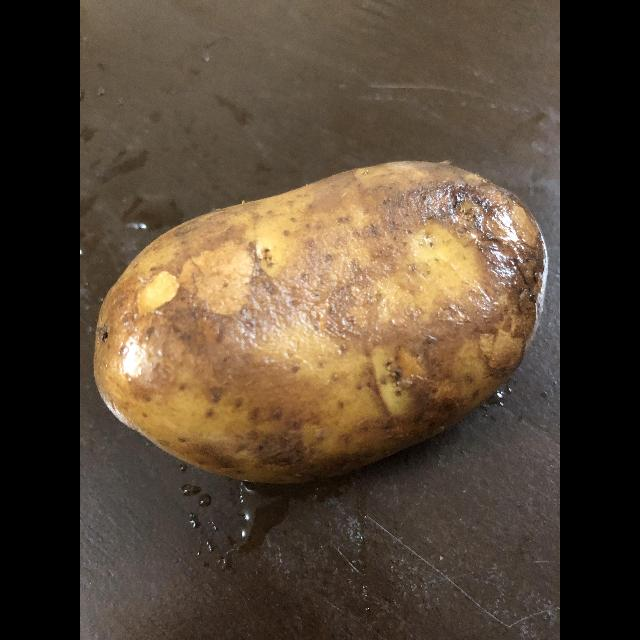Damaged potato: (99, 160, 542, 480)
